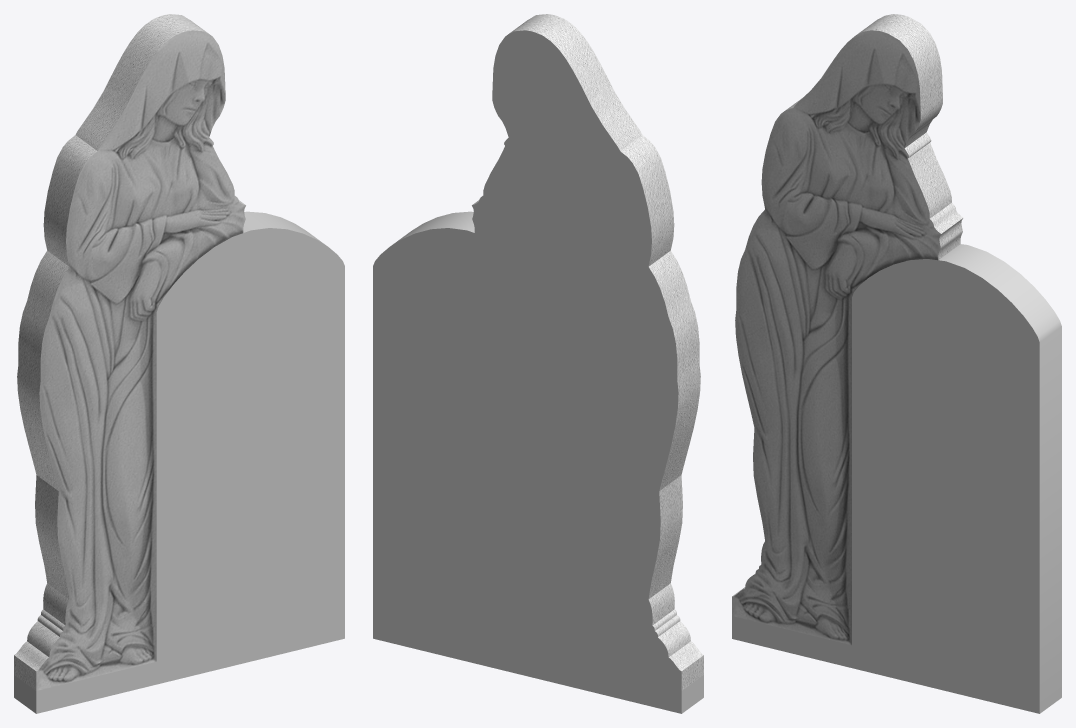
Rendered from cna26de02d4e_tkf.glb.
The picture shows the model from 3 angles, left to right: view 1: azimuth 30°, elevation 25°; view 2: azimuth 150°, elevation 25°; view 3: azimuth 330°, elevation 25°; orthographic projection.
Parts seen in each view (by area): view 1: Pam-d01-044_2_notexture, Pam-d01-044; view 2: Pam-d01-044, Pam-d01-044_2_notexture; view 3: Pam-d01-044, Pam-d01-044_2_notexture.
Part boxes in pixels (bbox=[...]): Pam-d01-044_2_notexture: bbox=[14, 14, 245, 690]; Pam-d01-044: bbox=[14, 211, 344, 713]; Pam-d01-044: bbox=[373, 30, 703, 713]; Pam-d01-044_2_notexture: bbox=[472, 14, 703, 690]; Pam-d01-044: bbox=[732, 244, 1061, 713]; Pam-d01-044_2_notexture: bbox=[732, 14, 963, 645].
Size of the model in its own units: 0.4 by 0.8 by 0.05.
1 material, 1 textured.
